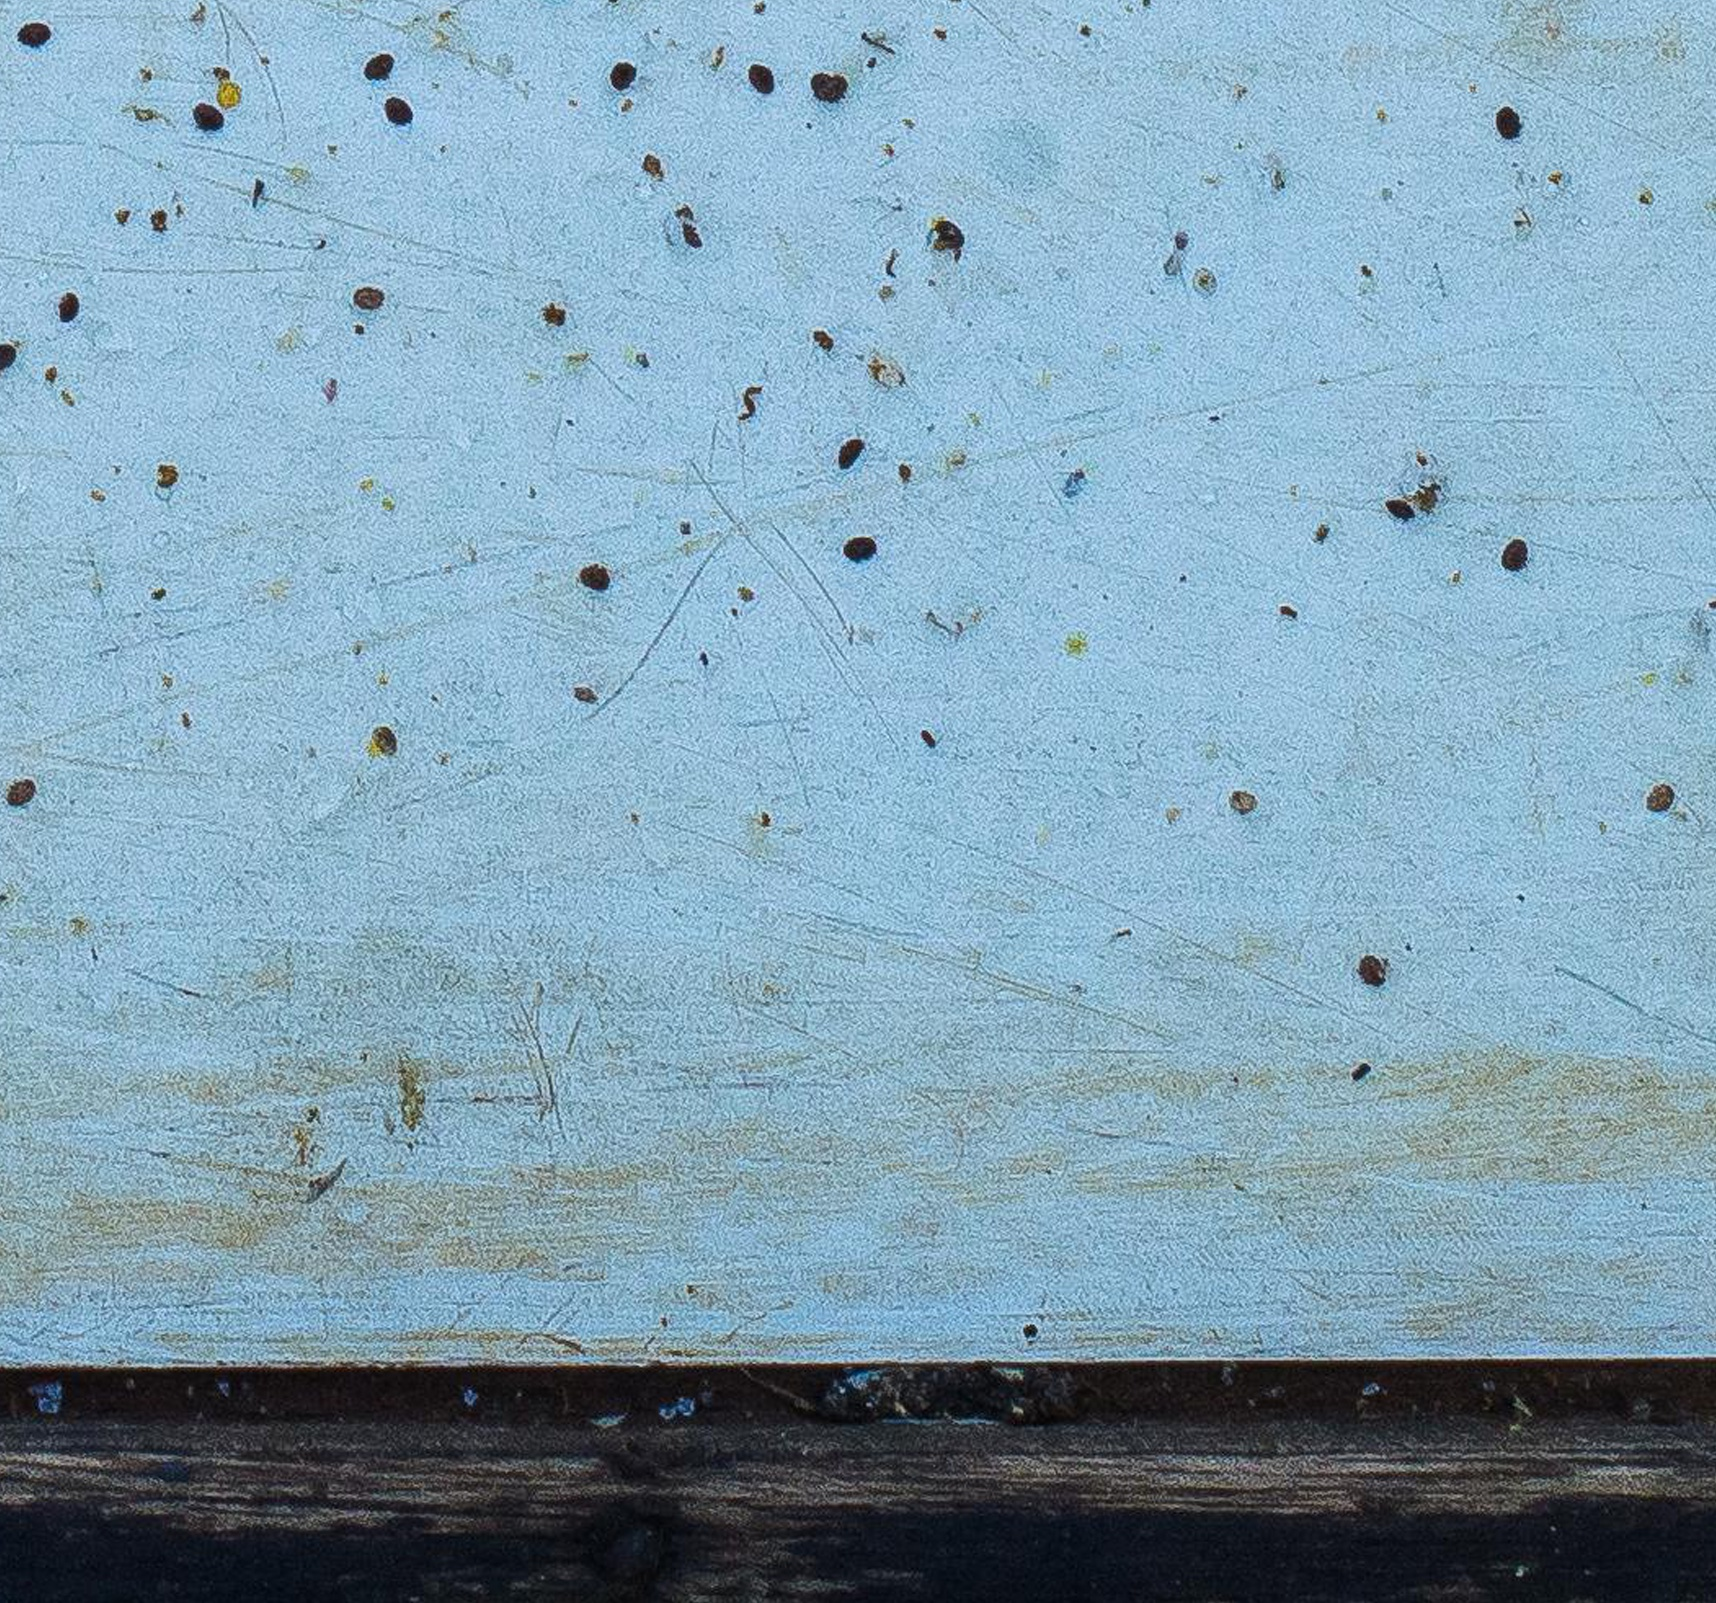Varroa: (925, 208, 972, 255), (737, 48, 783, 93), (600, 54, 646, 99), (1487, 96, 1532, 143), (826, 429, 871, 476), (835, 524, 881, 569), (1377, 485, 1424, 530), (1348, 946, 1395, 991), (12, 9, 57, 54), (182, 93, 227, 139), (356, 44, 401, 89), (378, 89, 423, 134), (792, 57, 838, 102), (344, 276, 389, 321), (45, 283, 90, 328), (573, 551, 618, 597), (1487, 530, 1532, 576), (2, 768, 47, 814), (1638, 774, 1681, 820)
